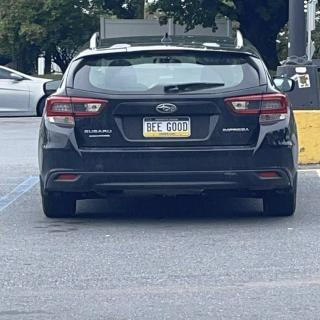license: (144, 117, 192, 138)
